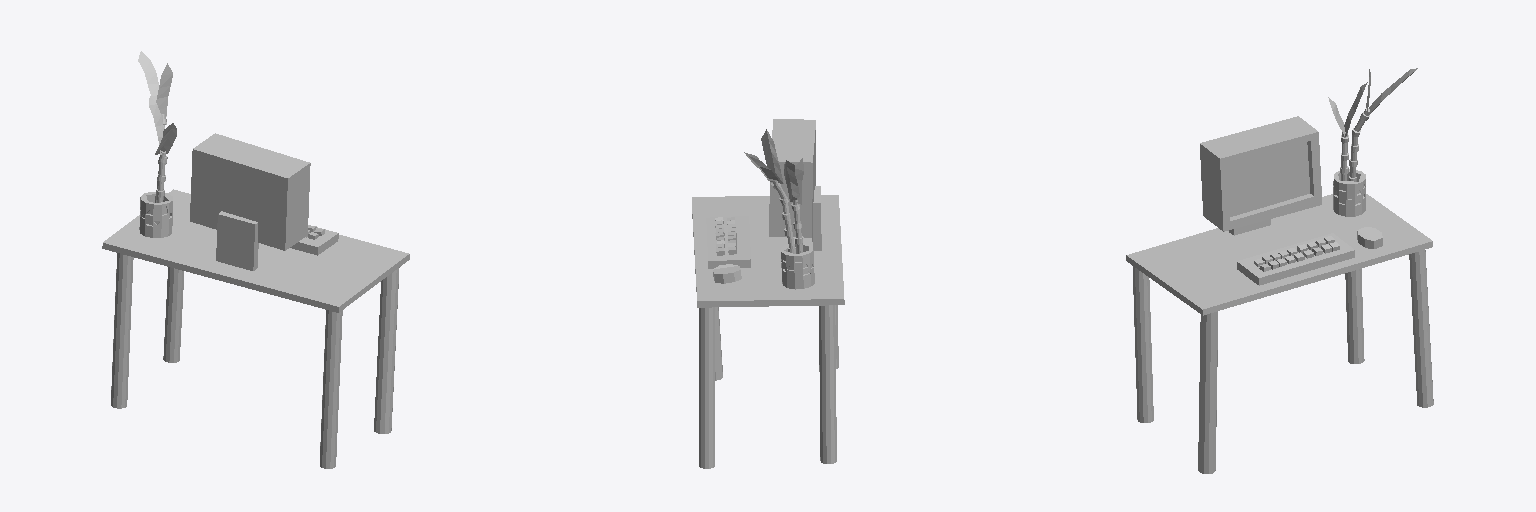
Rendered from Reception.obj.
3 renders of one model, left to right at view 1: azimuth 30°, elevation 25°; view 2: azimuth 150°, elevation 25°; view 3: azimuth 270°, elevation 25°, orthographic.
Visible parts, largest first — view 1: group[number redacted], group[number redacted], group[number redacted], group[number redacted], group[number redacted], group[number redacted], group[number redacted], group[number redacted], group[number redacted]; view 2: group[number redacted], group[number redacted], group[number redacted], group[number redacted], group[number redacted], group[number redacted], group[number redacted], group[number redacted]; view 3: group[number redacted], group[number redacted], group[number redacted], group[number redacted], group[number redacted], group[number redacted], group[number redacted], group[number redacted].
Part boxes in pixels (x1,y1,x2,y2): group[number redacted]: (102, 189, 409, 312); group[number redacted]: (190, 133, 310, 250); group[number redacted]: (374, 267, 399, 433); group[number redacted]: (320, 310, 342, 468); group[number redacted]: (111, 253, 133, 408); group[number redacted]: (216, 211, 258, 270); group[number redacted]: (163, 267, 183, 362); group[number redacted]: (140, 192, 172, 229); group[number redacted]: (290, 225, 338, 255); group[number redacted]: (692, 195, 844, 307); group[number redacted]: (769, 119, 815, 237); group[number redacted]: (819, 305, 836, 463); group[number redacted]: (699, 307, 714, 468); group[number redacted]: (706, 216, 750, 268); group[number redacted]: (781, 243, 814, 280); group[number redacted]: (761, 129, 783, 183); group[number redacted]: (812, 186, 821, 250); group[number redacted]: (1126, 194, 1432, 315); group[number redacted]: (1200, 116, 1321, 231); group[number redacted]: (1198, 311, 1217, 473); group[number redacted]: (1409, 250, 1433, 407); group[number redacted]: (1133, 266, 1153, 422); group[number redacted]: (1237, 233, 1354, 285); group[number redacted]: (1345, 269, 1364, 363); group[number redacted]: (1333, 169, 1365, 208).
Bounding box in the file's own units: 0.7247 × 1.03 × 0.8381.